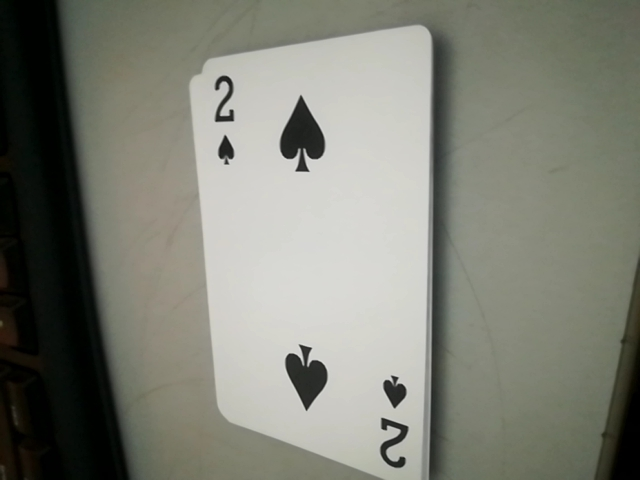ht 2: (199, 68, 250, 178), (374, 375, 408, 468)
